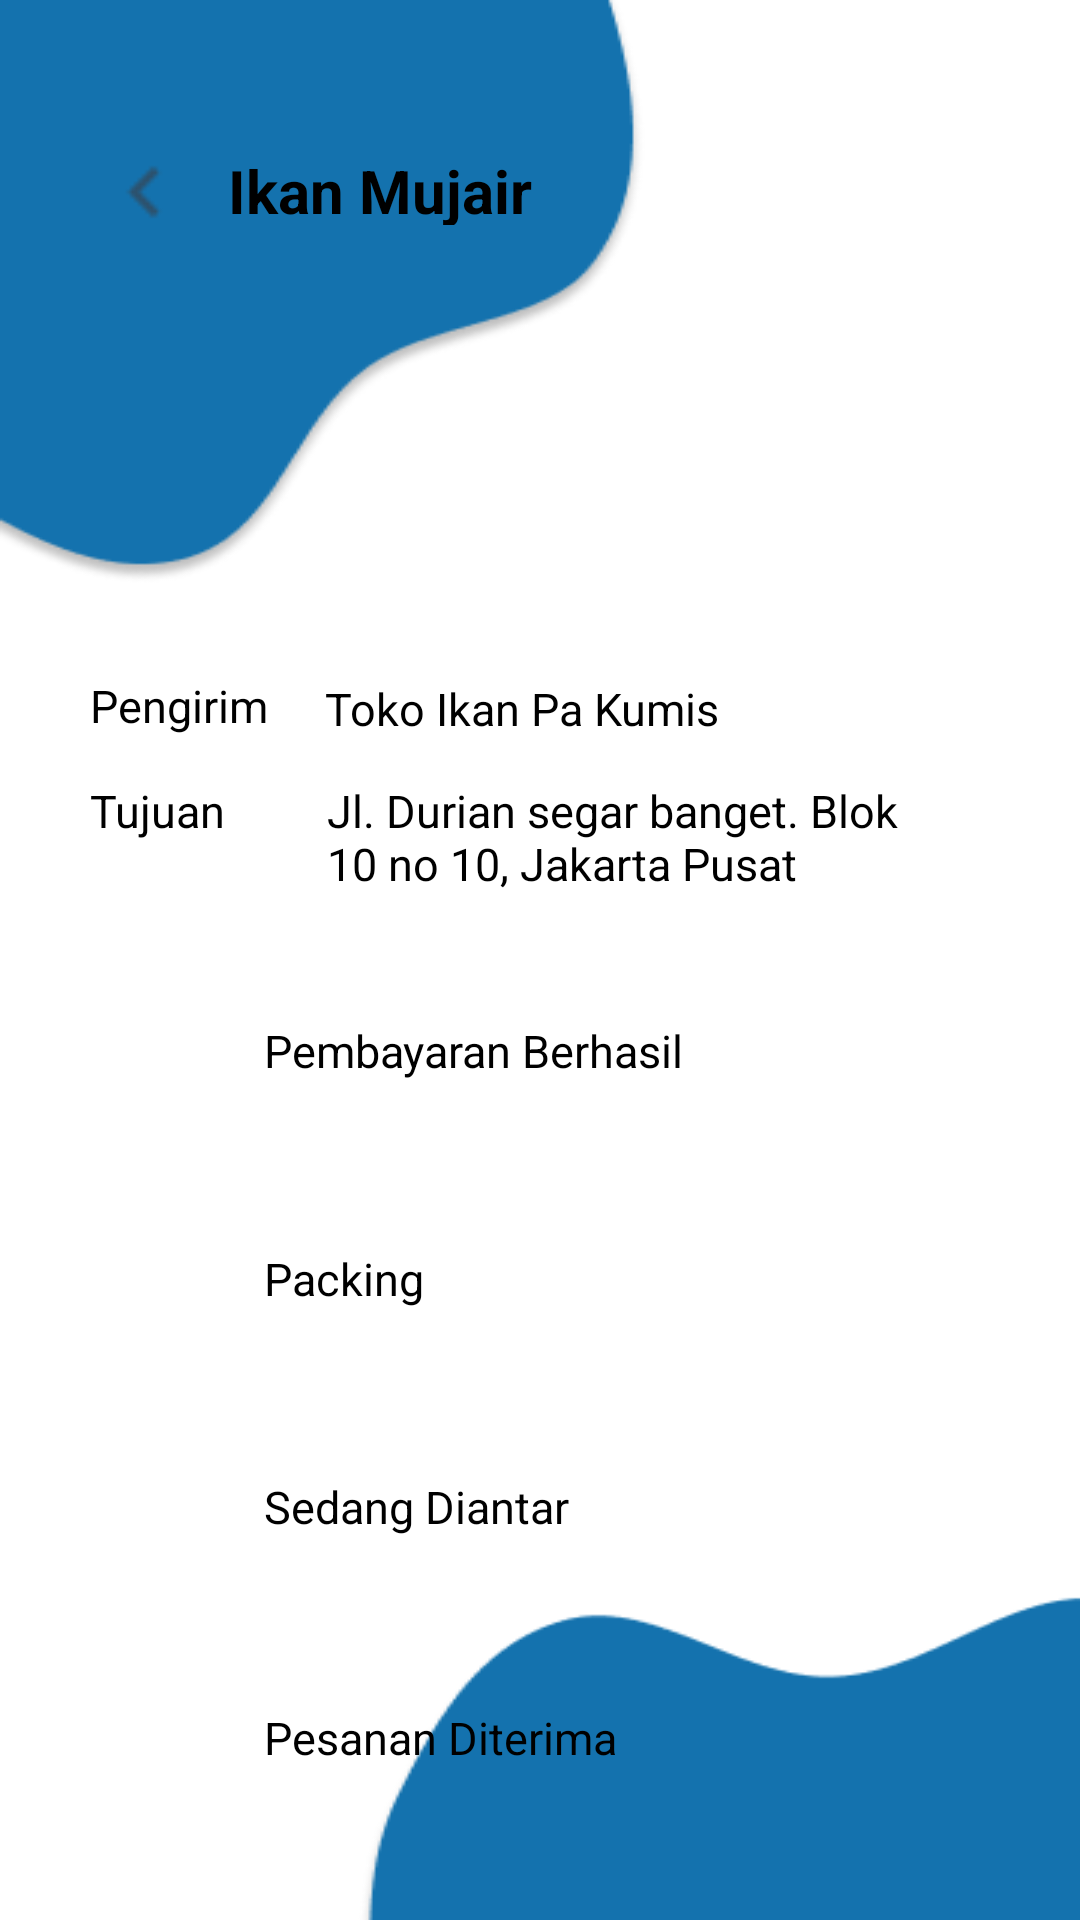

Where icons sit on this 1080 x 1920 app screen, as detection(x1, y1, x2, y2):
back: detection(129, 168, 158, 216)
